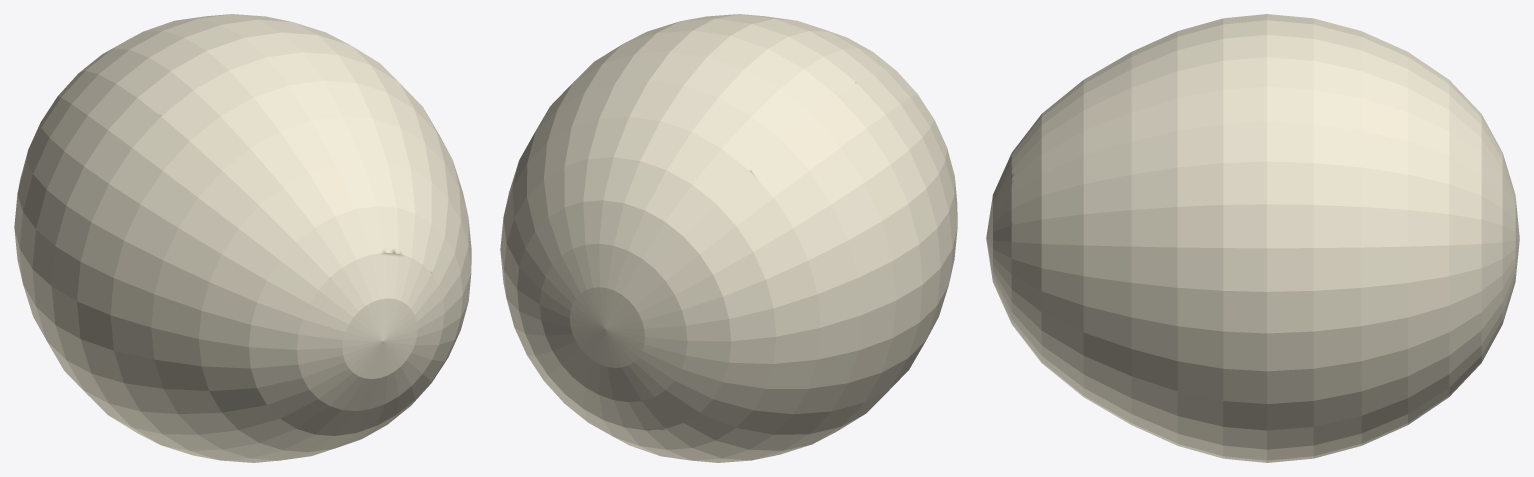
File: obj_drop_egg.fbx
The picture shows the model from 3 angles, left to right: view 1: azimuth 30°, elevation 25°; view 2: azimuth 150°, elevation 25°; view 3: azimuth 270°, elevation 25°; orthographic projection.
Visible parts, largest first — view 1: Egg; view 2: Egg; view 3: Egg.
Boxes of the visible parts, <box> form: Egg: <box>14,14,471,462</box>; Egg: <box>500,14,957,462</box>; Egg: <box>986,14,1519,462</box>.
Size of the model in its own units: 1.6 by 1.6 by 1.9.
